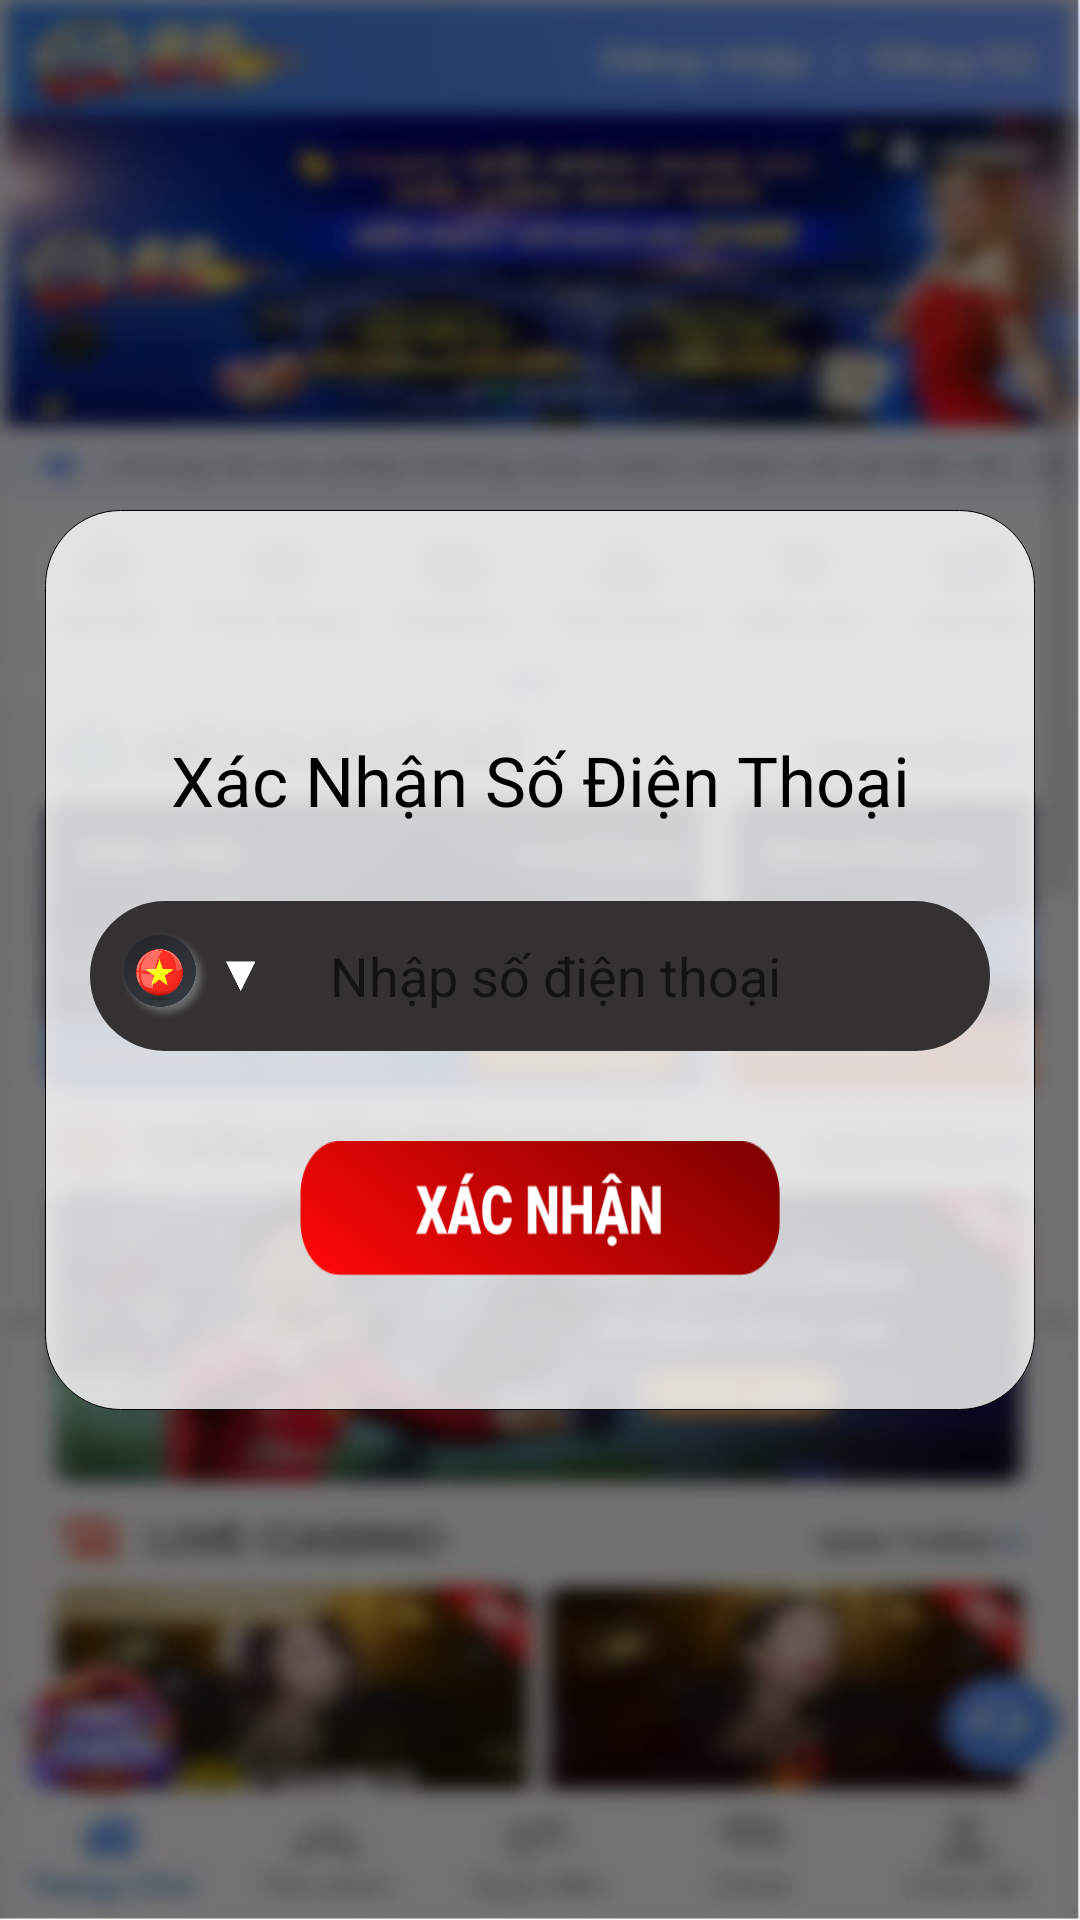

Icon click points for this 1080 x 1920 phone screenshot, format (x=x, y=y):
duoi: (x=240, y=976)
